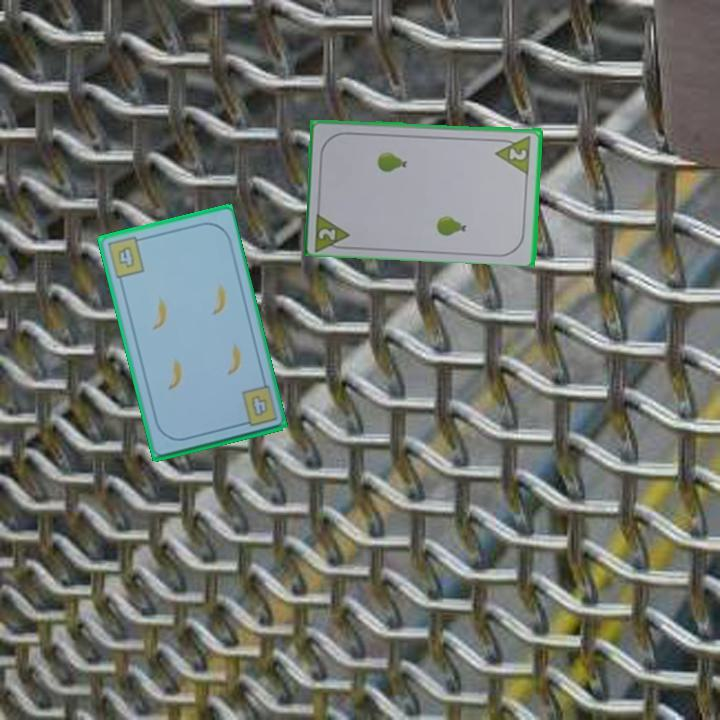2p: (311, 207, 354, 252), (492, 132, 534, 175)
4b: (103, 233, 147, 281), (247, 391, 270, 419)
